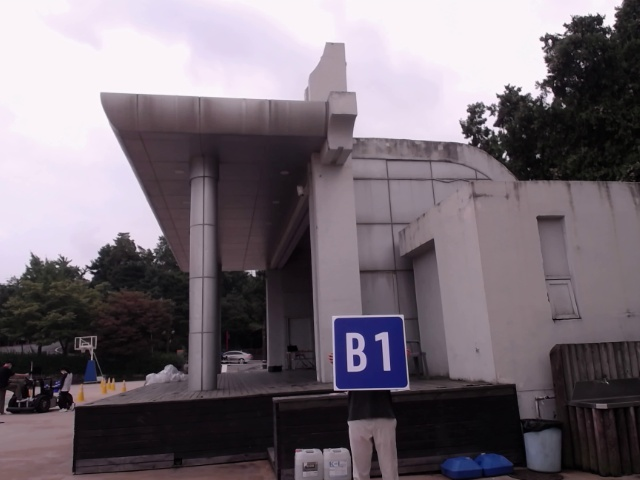delivery_b1: (332, 315, 409, 390)
